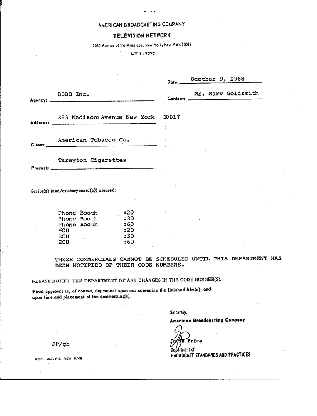textline: (50, 114, 158, 126), (48, 91, 155, 103), (45, 136, 158, 147), (50, 160, 157, 171), (178, 75, 263, 85), (186, 92, 263, 102)
